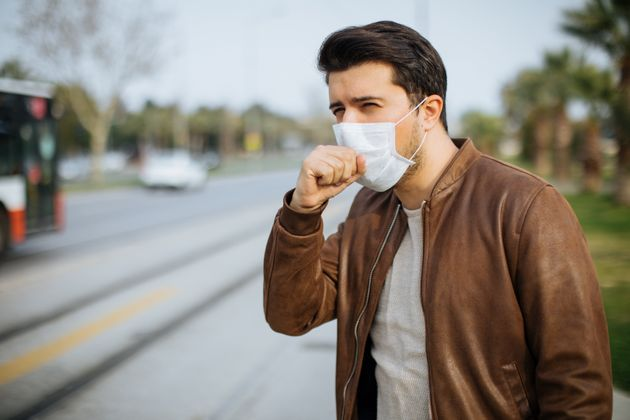with_mask: (326, 81, 420, 190)
